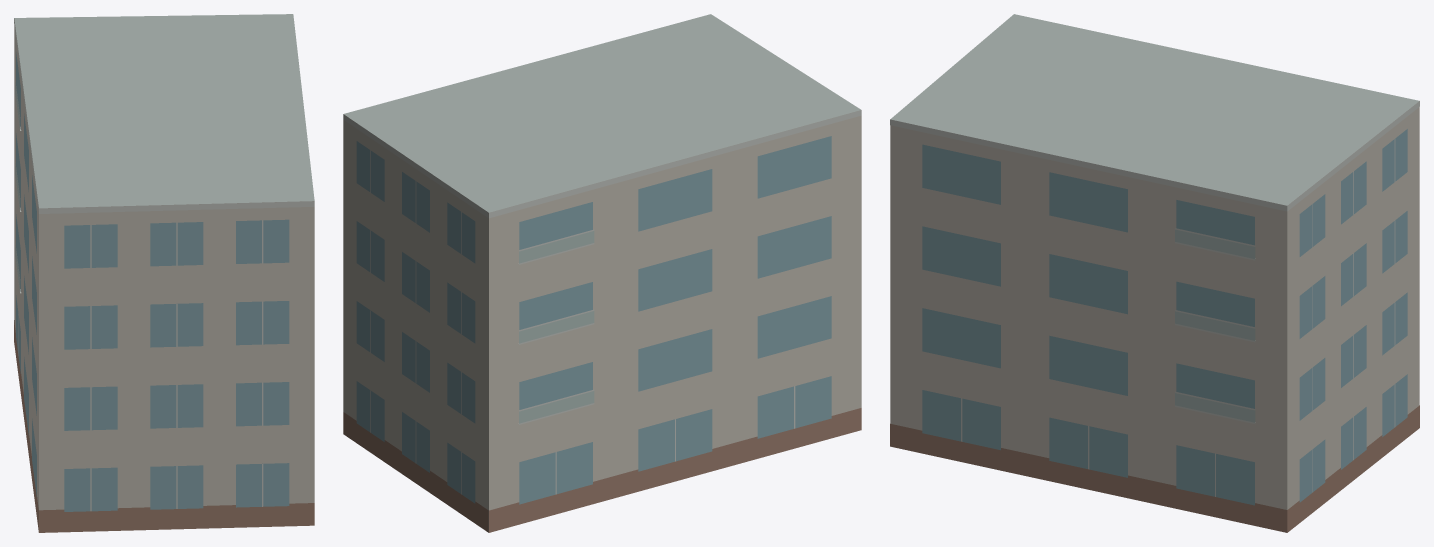
Rendered from survey-upis-32689242.glb.
3 views of the same model, side by side, from view 1: azimuth 30°, elevation 25°; view 2: azimuth 150°, elevation 25°; view 3: azimuth 270°, elevation 25° (orthographic). The views are drawn at different scales.
Parts seen in each view (by area): view 1: survey-upis-32689242.tmp; view 2: survey-upis-32689242.tmp; view 3: survey-upis-32689242.tmp.
Boxes of the visible parts, left/top/right/bottom form: survey-upis-32689242.tmp: left=14, top=14, right=314, bottom=532; survey-upis-32689242.tmp: left=343, top=14, right=861, bottom=532; survey-upis-32689242.tmp: left=890, top=14, right=1419, bottom=532.
Bounding box in the file's own units: 17.36 × 13.8 × 20.26.
